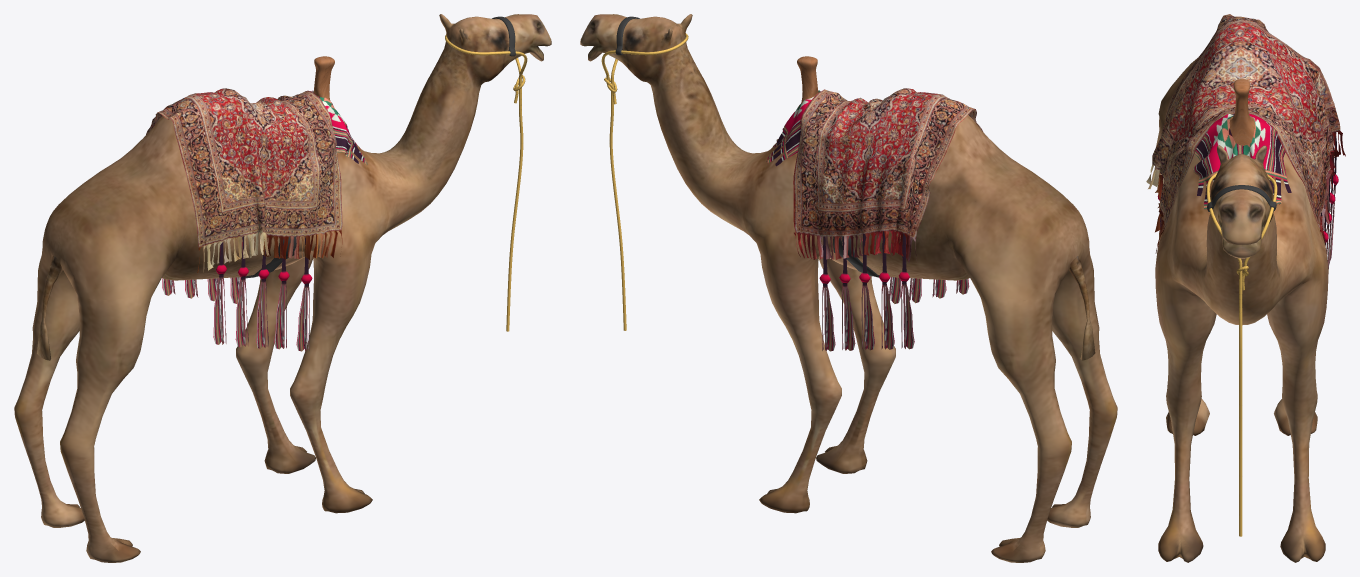
Rendered from camel.glb.
The picture shows the model from 3 angles, left to right: view 1: azimuth 30°, elevation 25°; view 2: azimuth 150°, elevation 25°; view 3: azimuth 270°, elevation 25°; orthographic projection. The views are drawn at different scales.
Visible parts, largest first — view 1: c; view 2: c; view 3: c.
Boxes of the visible parts, left/top/right/bottom form: c: left=14, top=14, right=551, bottom=562; c: left=580, top=14, right=1117, bottom=562; c: left=1146, top=14, right=1345, bottom=562.
Bounding box in the file's own units: 9.96 × 8.05 × 3.02.
1 material, 1 textured.
